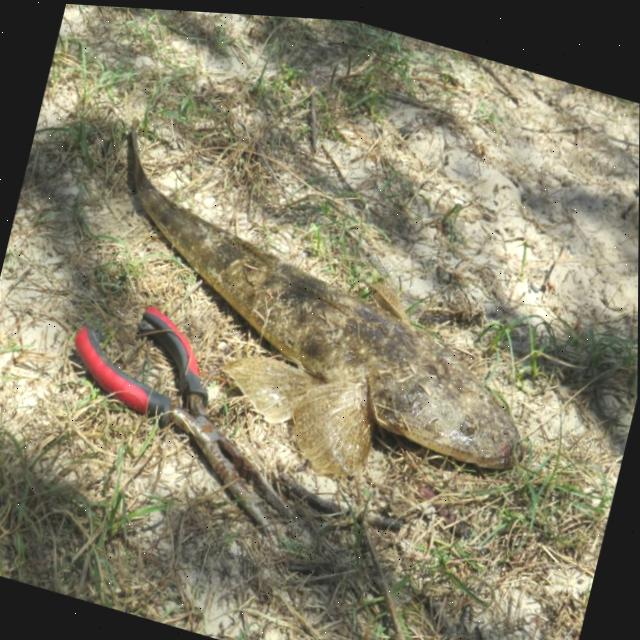Flathead: (47, 103, 586, 538)
